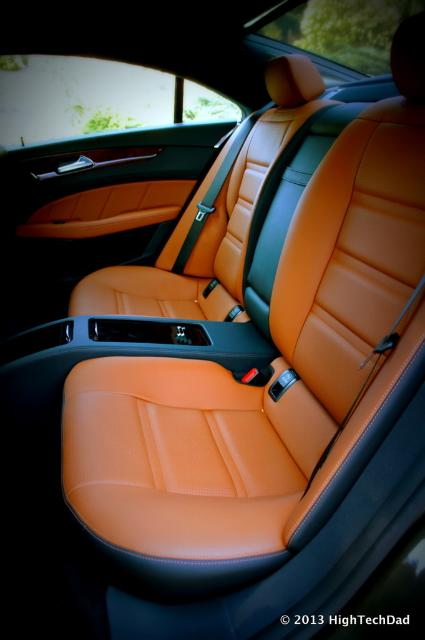Seatbelt: (305, 276, 425, 492), (170, 102, 276, 270)
